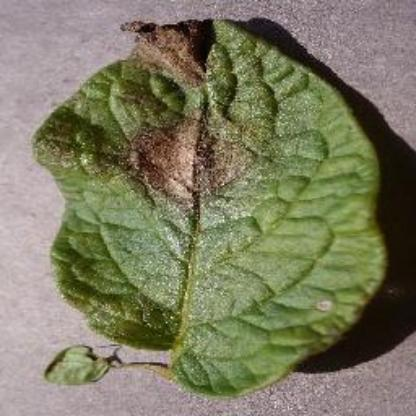Late-Blight: (15, 6, 416, 392)
